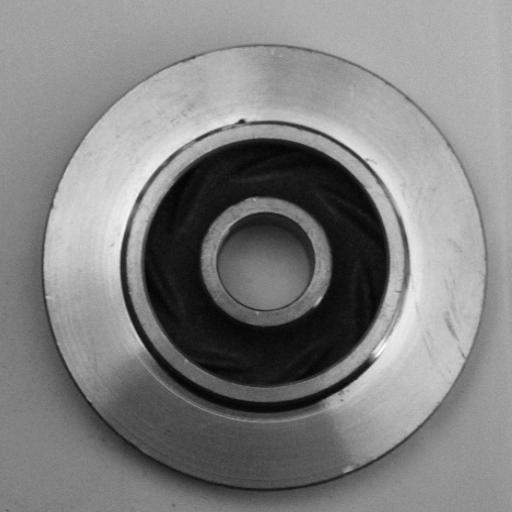crack: (215, 109, 259, 136)
scratch: (367, 267, 415, 370)
unpolished_casting: (43, 41, 485, 492)
